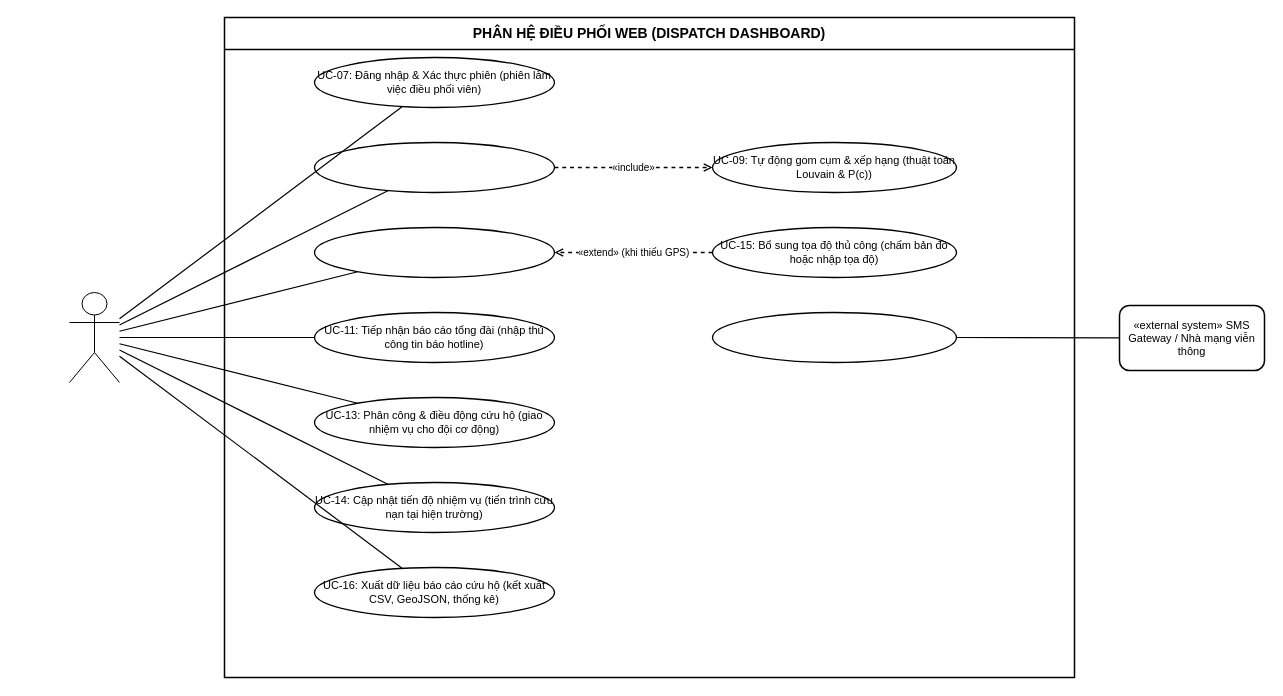
Some shapes in this 1283 by 696 pixel diagram are drawn without their labels. The centre of each missing label's shape, as x and y in pixels:
"UC-08: Giám sát bản đồ sự cố (& thứ tự ưu tiên cứu hộ)" belongs at pixel 434 167.
"UC-10: Quản lý danh sách báo cáo (xác minh tin báo & lọc dữ liệu)" belongs at pixel 434 252.
"UC-12: Tiếp nhận báo cáo qua SMS (Webhook từ SMS Gateway)" belongs at pixel 834 337.
"Điều phối viên (Dispatcher)" belongs at pixel 94 337.
